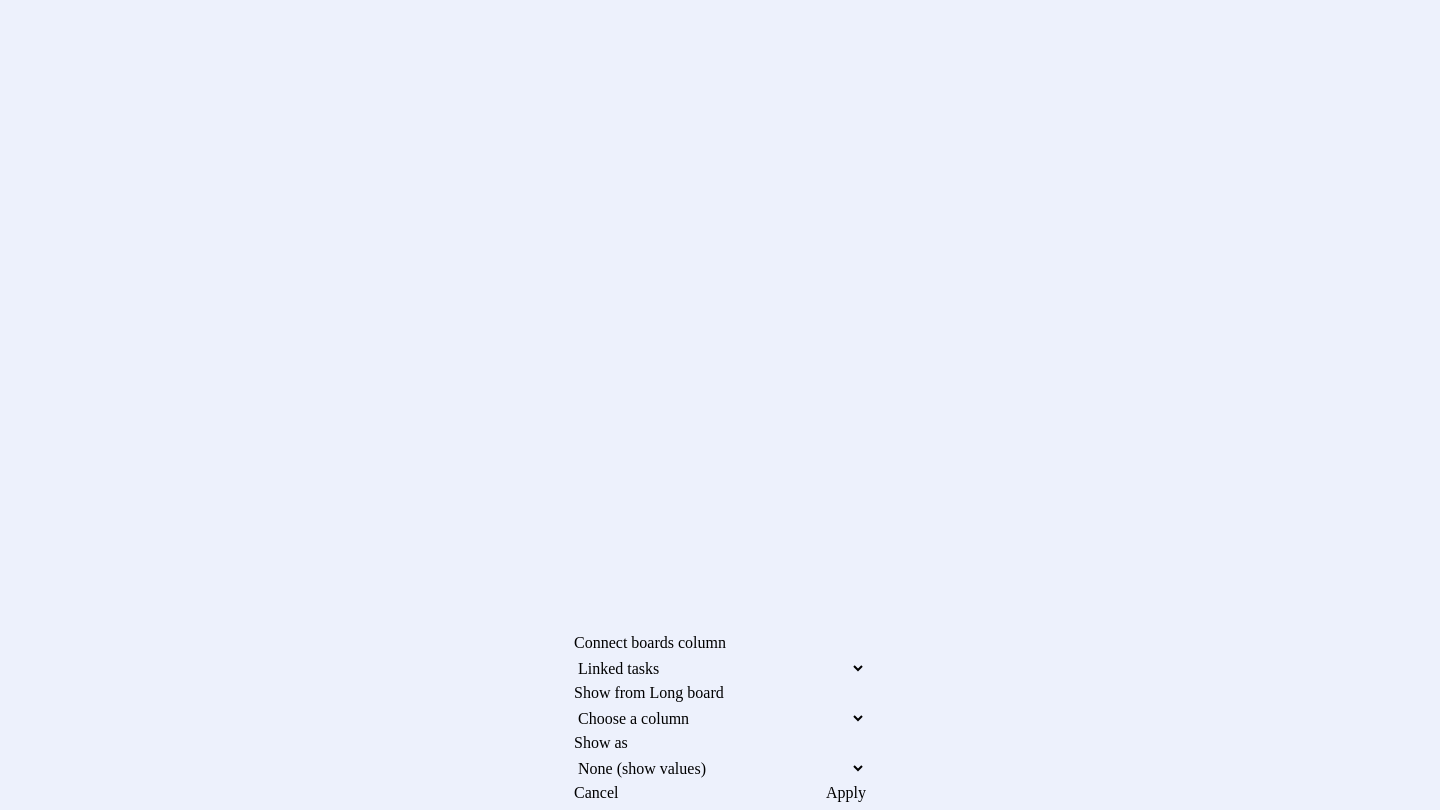
it: Mirror column settings › shows the schema error inline and blocks Apply
Select "Status" in the dropdown named "Column from Long board". click: (720, 718)
box: [574,702,866,734]
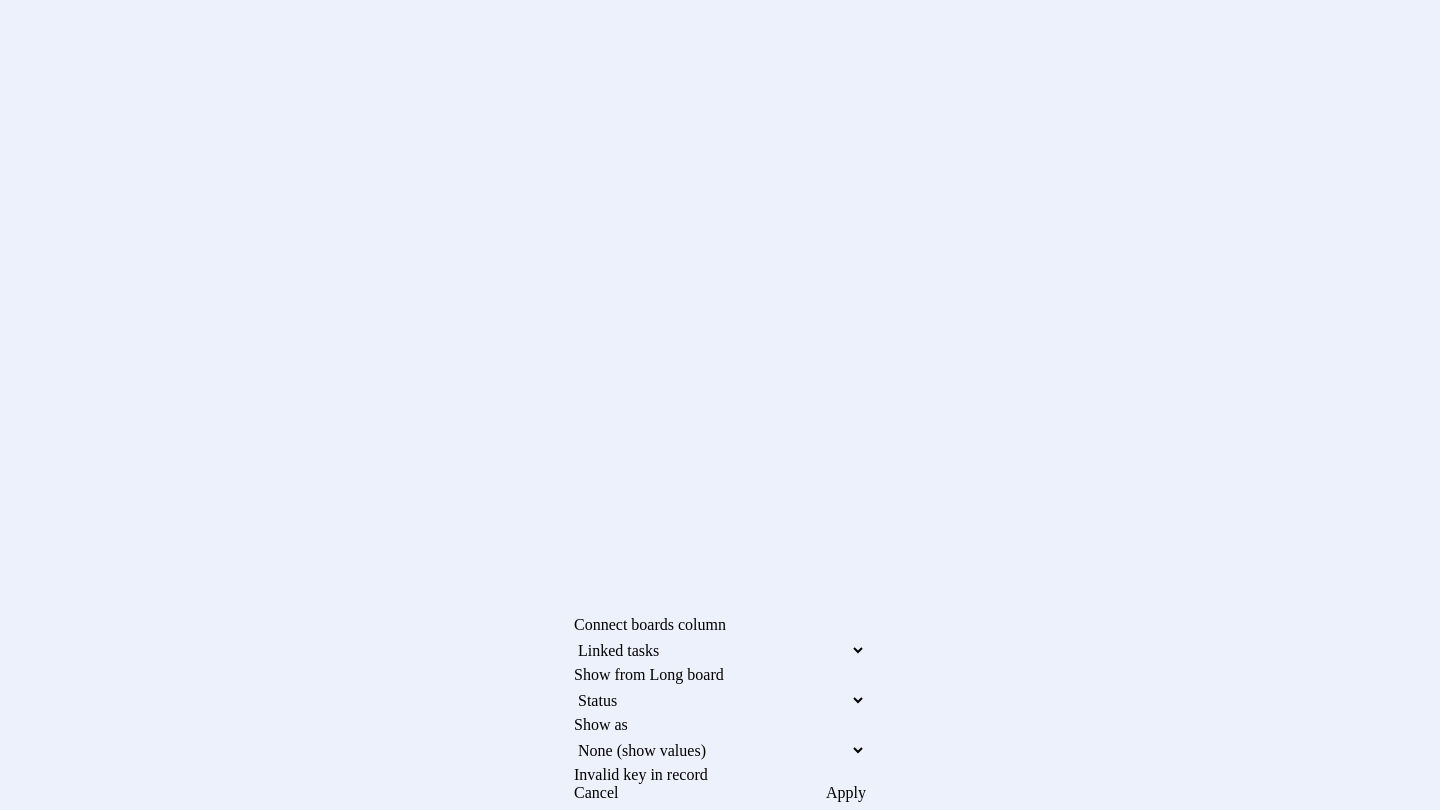
Expected: the button "Apply" is disabled, [826,784,866,802]
Expected: the message "Invalid key in record" is shown, [574,766,708,783]
